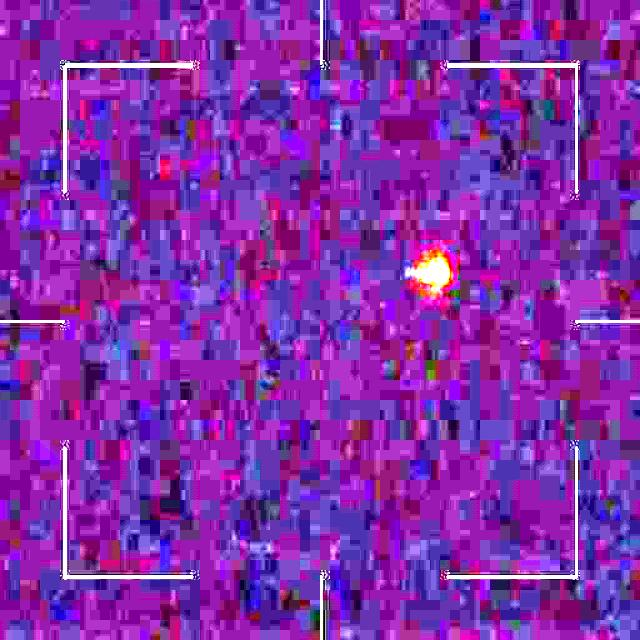bird: (408, 251, 451, 294)
